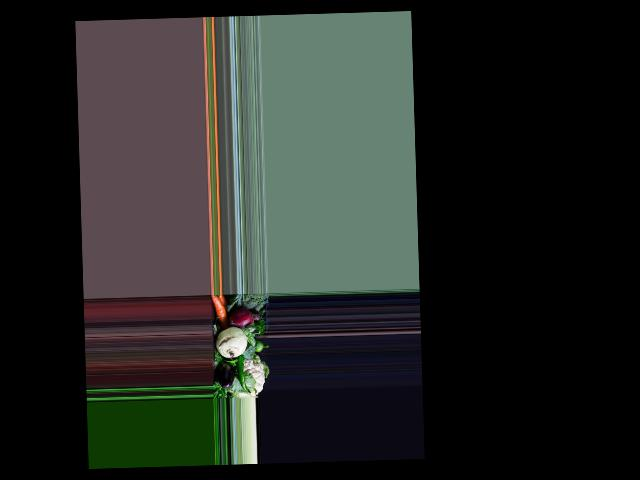carrot: (209, 293, 230, 322)
